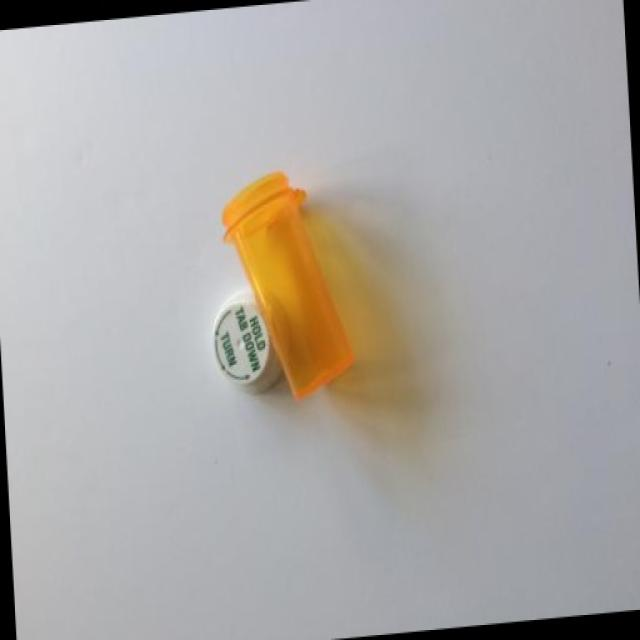plastico: (174, 138, 375, 454)
